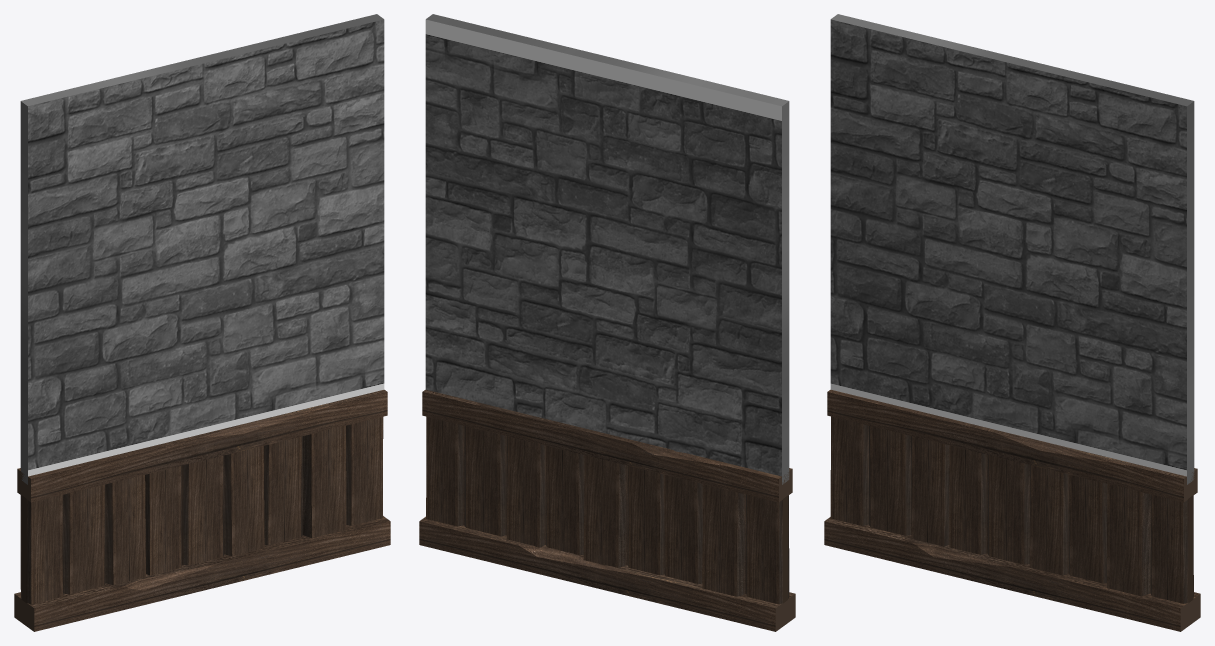
The model's file is wall.fbx.
The picture shows the model from 3 angles, left to right: view 1: azimuth 30°, elevation 25°; view 2: azimuth 150°, elevation 25°; view 3: azimuth 330°, elevation 25°; orthographic projection.
Parts seen in each view (by area): view 1: SM_Bld_House_Wall_02; view 2: SM_Bld_House_Wall_02; view 3: SM_Bld_House_Wall_02.
Part boxes in pixels (bbox=[...]): SM_Bld_House_Wall_02: bbox=[14, 14, 390, 631]; SM_Bld_House_Wall_02: bbox=[419, 14, 795, 631]; SM_Bld_House_Wall_02: bbox=[824, 14, 1200, 631].
Size of the model in its own units: 250 by 349 by 24.2.
